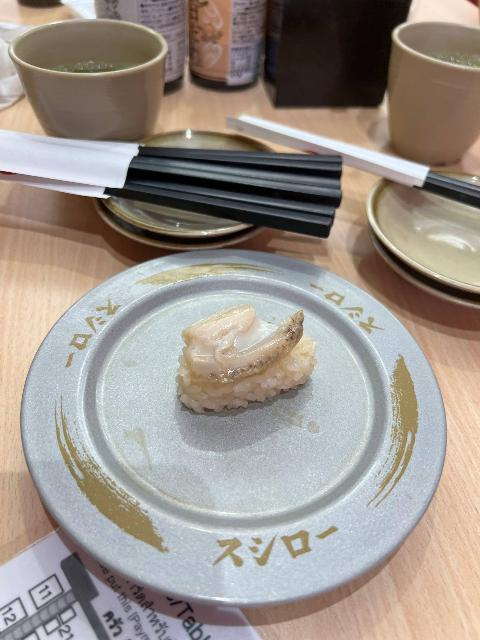janwhite: (43, 278, 452, 583)
